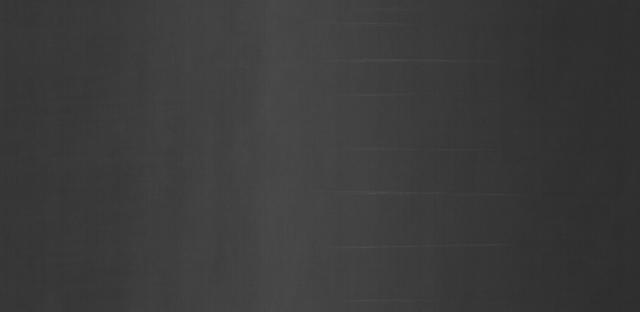waist_folding: (286, 36, 526, 298)
